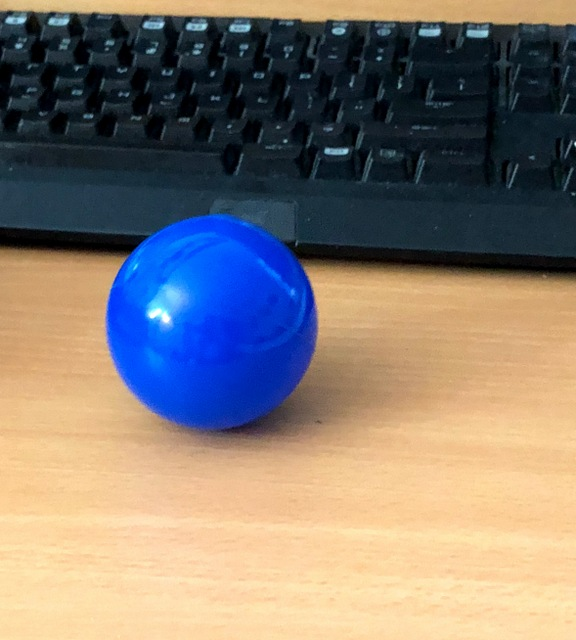Ball: (106, 214, 318, 433)
